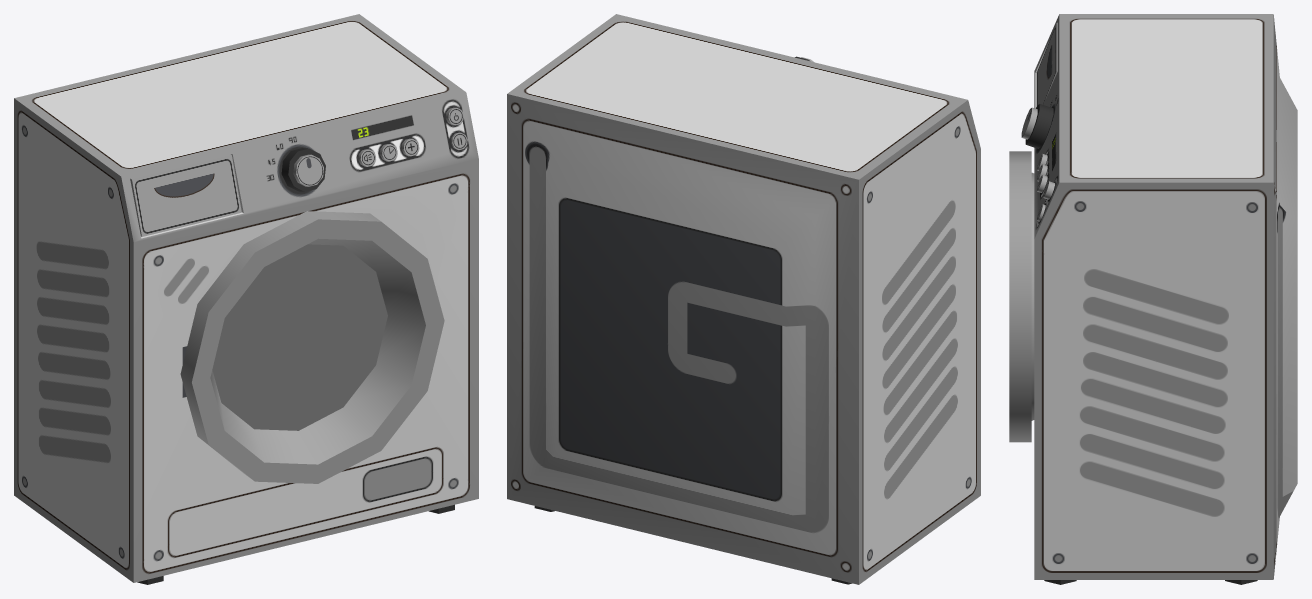
Rendered from Washing Machine.obj.
The picture shows the model from 3 angles, left to right: view 1: azimuth 30°, elevation 25°; view 2: azimuth 150°, elevation 25°; view 3: azimuth 270°, elevation 25°; orthographic projection.
Parts seen in each view (by area): view 1: Dryer, Door, Glass1, Powder_compartment, Brutton; view 2: Dryer; view 3: Dryer, Door, Powder_compartment.
Part boxes in pixels (x1=…): Dryer: x1=14, y1=14, x2=478, y2=584; Door: x1=180, y1=211, x2=444, y2=483; Glass1: x1=212, y1=244, x2=387, y2=430; Powder_compartment: x1=130, y1=154, x2=241, y2=236; Brutton: x1=293, y1=154, x2=323, y2=186; Dryer: x1=507, y1=14, x2=980, y2=584; Dryer: x1=1025, y1=14, x2=1297, y2=584; Door: x1=1009, y1=151, x2=1034, y2=442; Powder_compartment: x1=1036, y1=23, x2=1057, y2=105.
Bounding box in the file's own units: 320 × 361 × 231.
2 materials, 1 textured.
